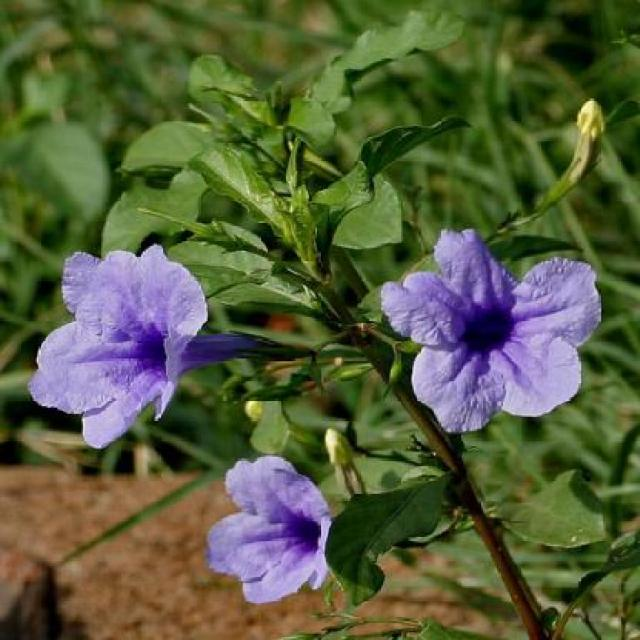flower: (378, 213, 600, 433), (31, 244, 208, 459), (204, 454, 333, 615)
